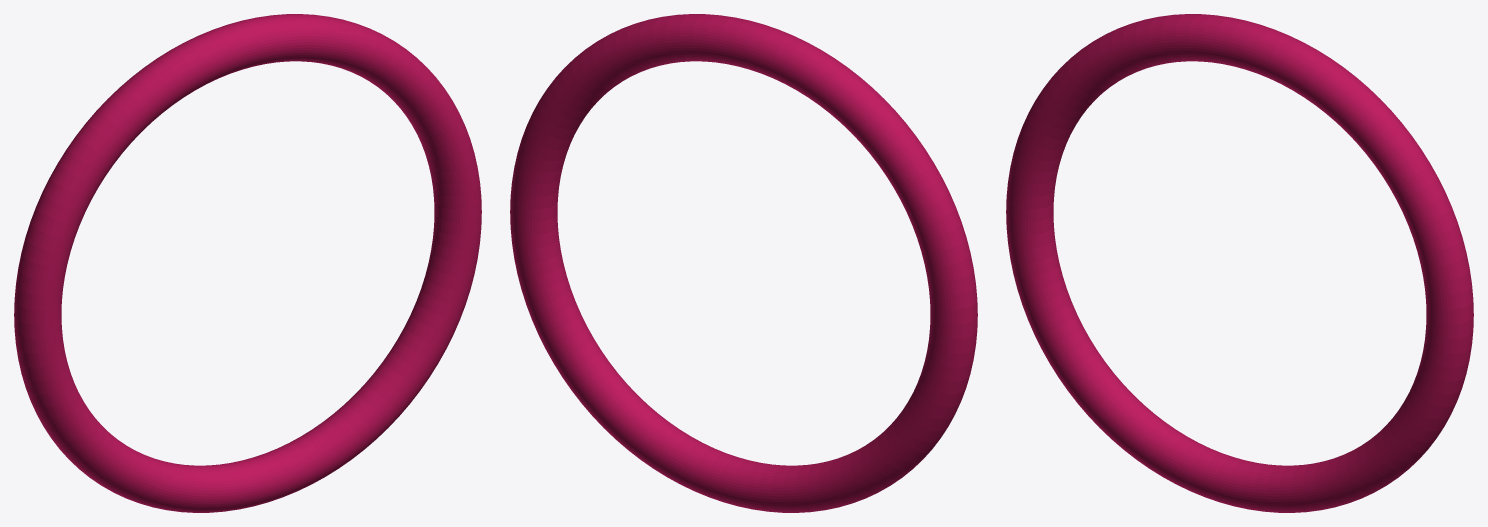
3 views of the same model, side by side, from view 1: azimuth 30°, elevation 25°; view 2: azimuth 150°, elevation 25°; view 3: azimuth 330°, elevation 25° (orthographic).
Visible parts, largest first — view 1: world; view 2: world; view 3: world.
Boxes of the visible parts, x1,y1,x2,y2 form: world: (14,14,481,512); world: (510,14,977,512); world: (1006,14,1473,512).
Size of the model in its own units: 31.47 by 31.47 by 2.79.
